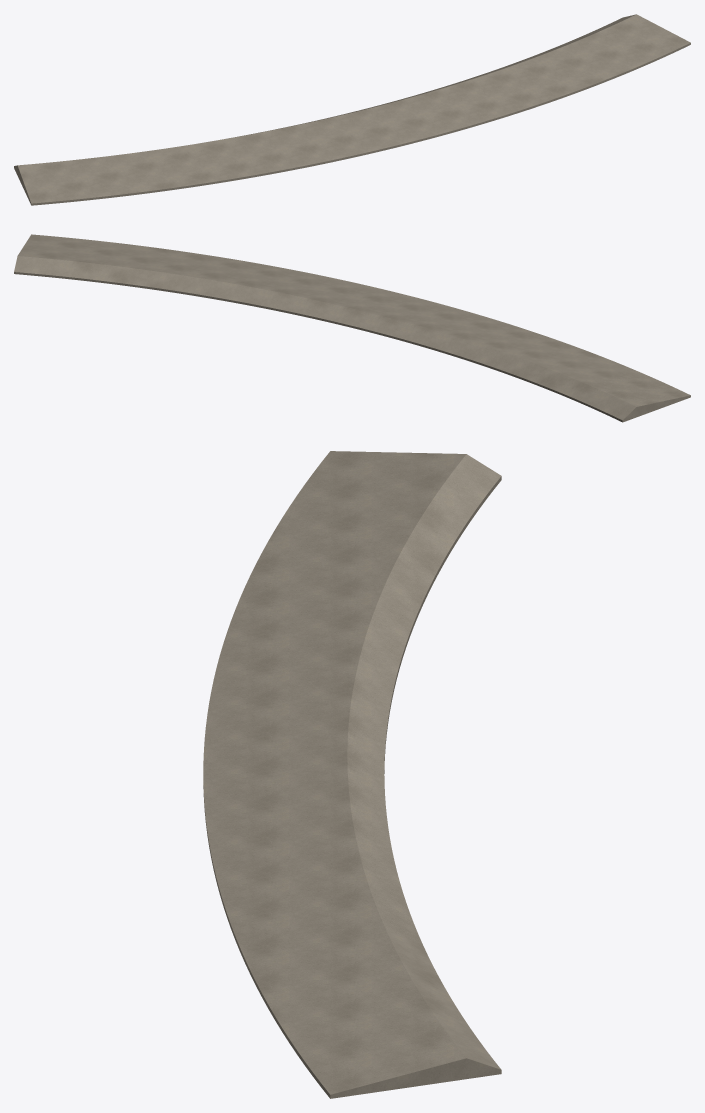
The model's file is ramp_3.glb.
3 views of the same model, one above another, from view 1: azimuth 30°, elevation 25°; view 2: azimuth 150°, elevation 25°; view 3: azimuth 270°, elevation 25° (orthographic). The views are drawn at different scales.
Parts seen in each view (by area): view 1: ramp_3_gravel_r; view 2: ramp_3_gravel_r; view 3: ramp_3_gravel_r.
Boxes of the visible parts, left/top/right/bottom form: ramp_3_gravel_r: left=14, top=14, right=690, bottom=205; ramp_3_gravel_r: left=14, top=234, right=690, bottom=422; ramp_3_gravel_r: left=203, top=451, right=501, bottom=1098.
Size of the model in its own units: 37 by 0.56 by 7.25.
Materials: 1 (1 with a texture image).
